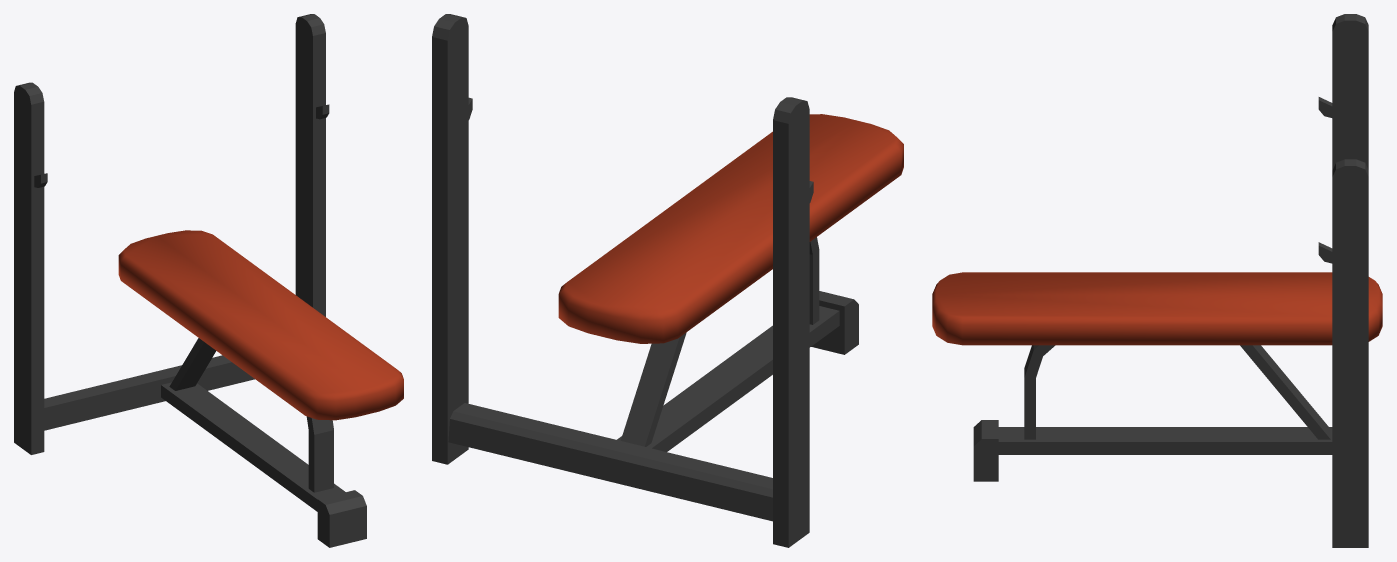
The model's file is bench_press.glb.
The picture shows the model from 3 angles, left to right: view 1: azimuth 30°, elevation 25°; view 2: azimuth 150°, elevation 25°; view 3: azimuth 270°, elevation 25°; orthographic projection. The views are drawn at different scales.
Visible parts, largest first — view 1: Bench_Press; view 2: Bench_Press; view 3: Bench_Press.
Boxes of the visible parts, x1,y1,x2,y2 form: Bench_Press: (14, 14, 403, 547); Bench_Press: (432, 14, 903, 547); Bench_Press: (932, 14, 1382, 547).
Bounding box in the file's own units: 1.01 × 1.18 × 1.26.
Materials: 1 (1 with a texture image).
